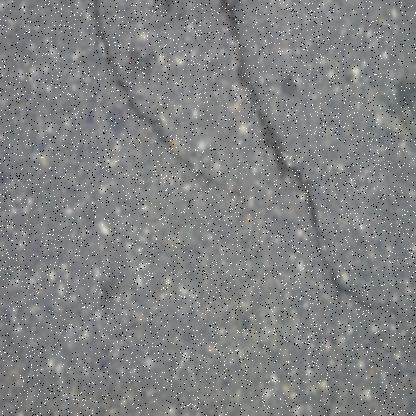Cracks: (198, 0, 392, 318), (86, 0, 220, 191)
